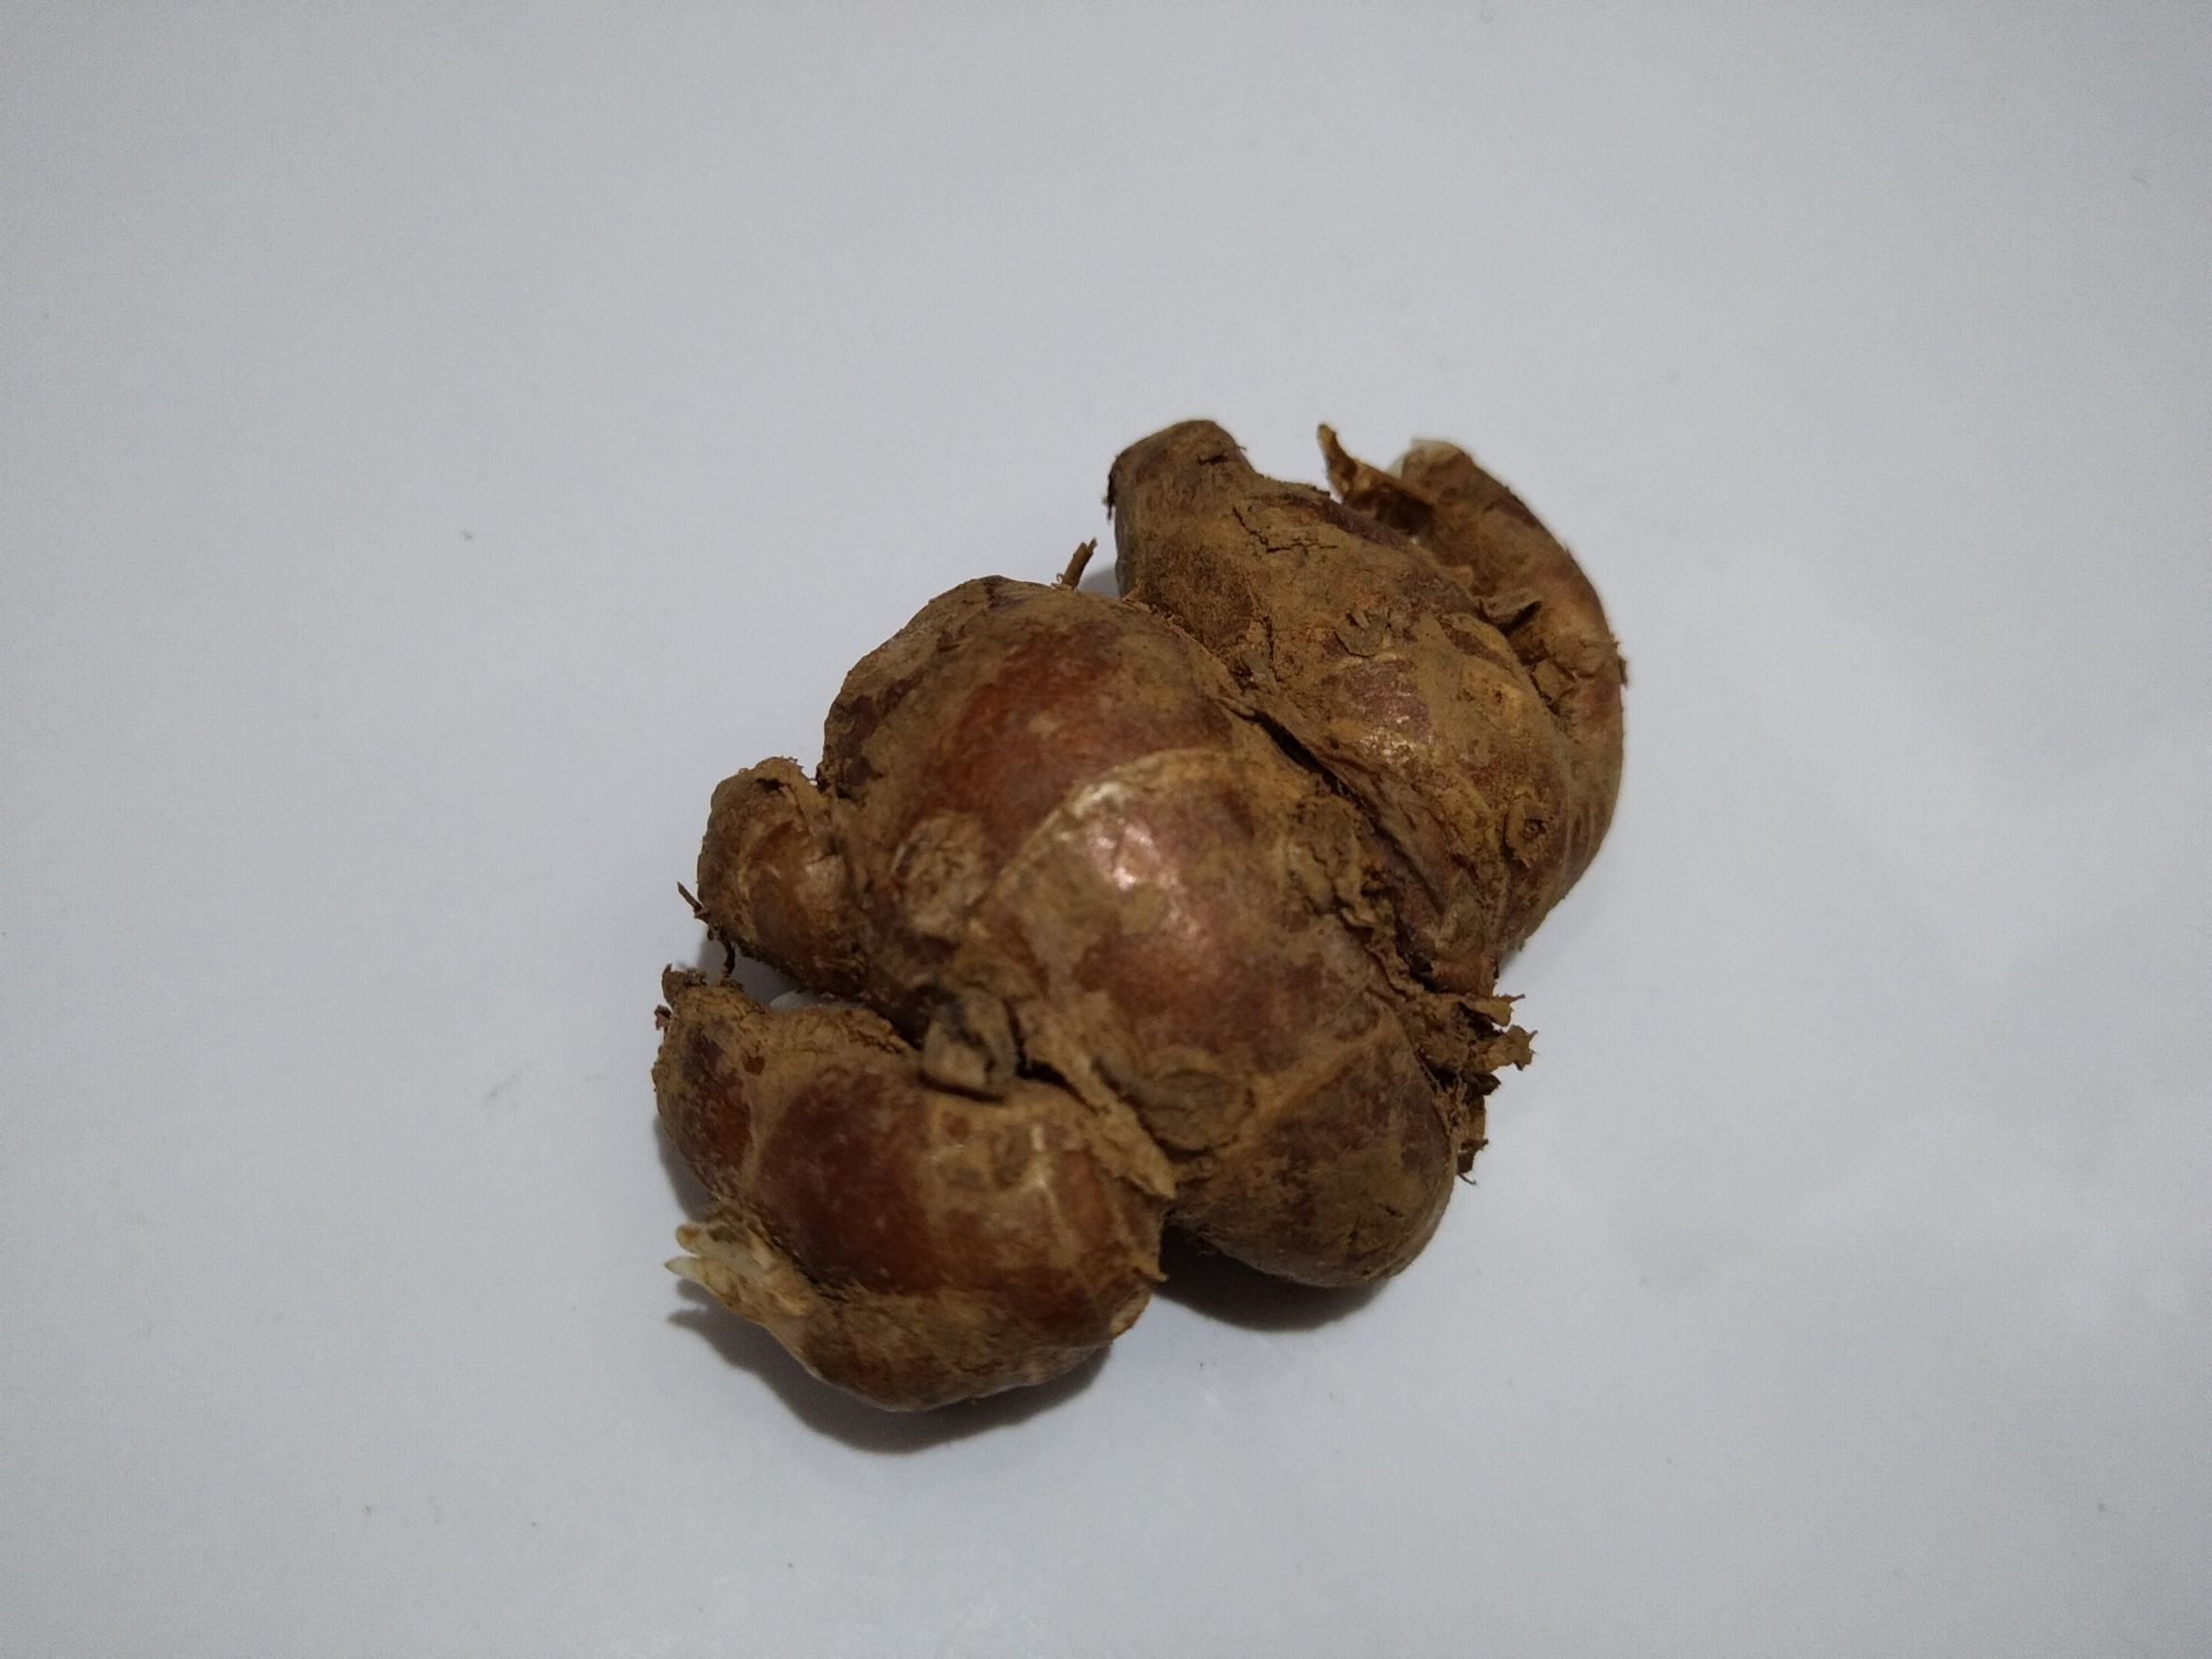Kencur: (678, 420, 1630, 1441)
